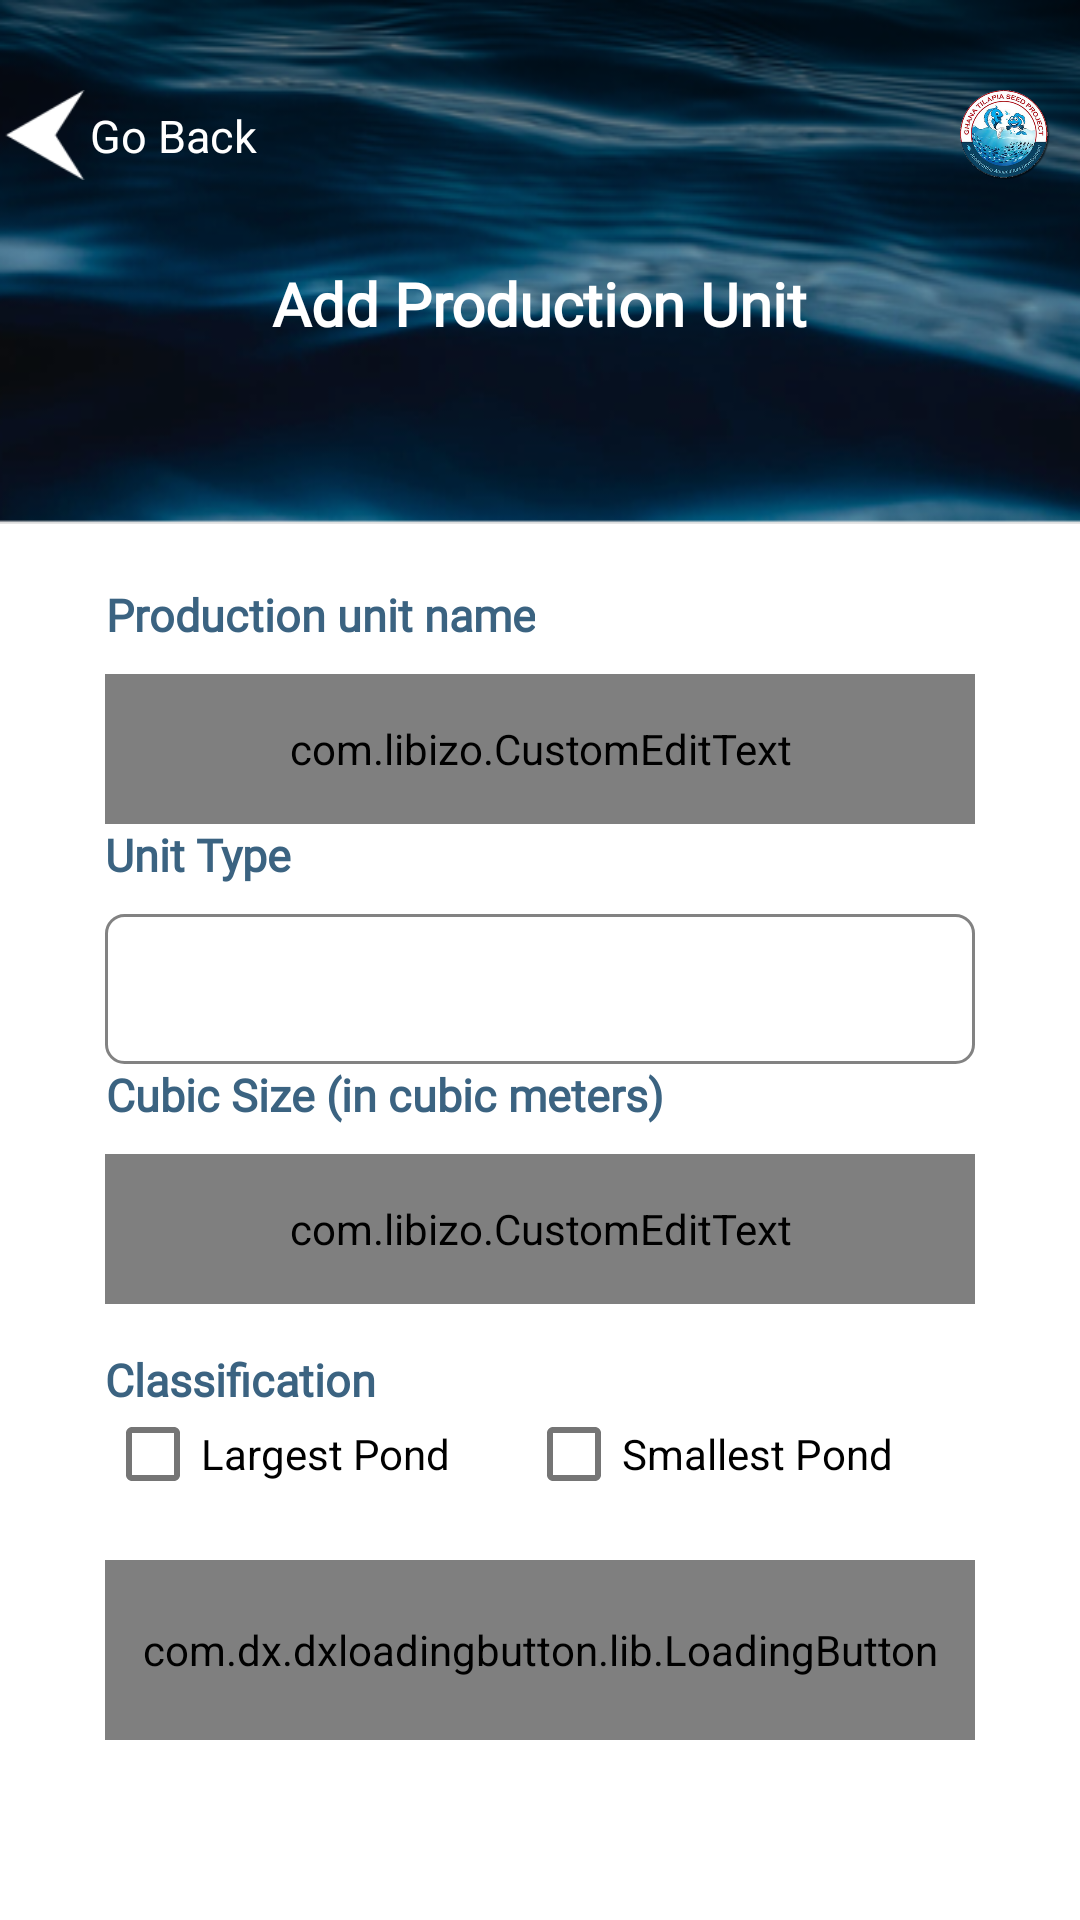

Point at icon controls on the screen. Image size 1080*1920, points as [x,y].
arrowwhite: [45,135]
